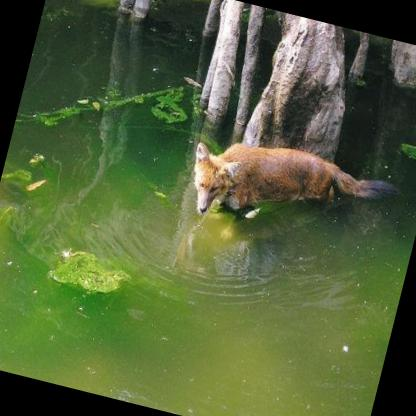dhole: (178, 124, 402, 258)
